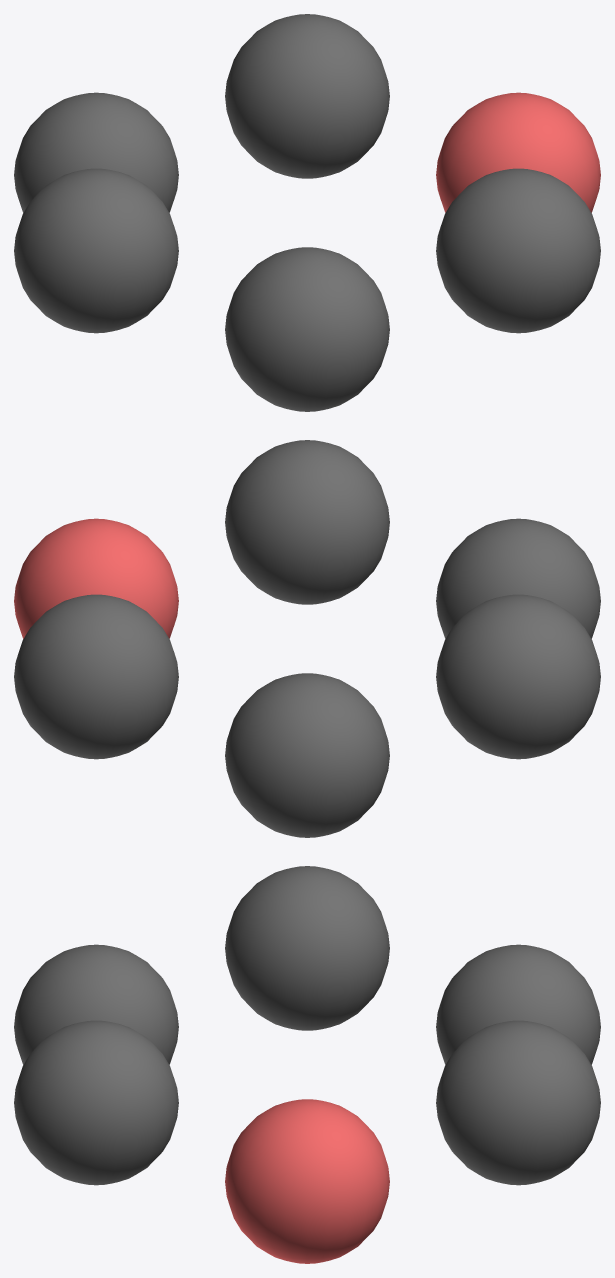
File: glucose.glb
3 renders of one model, top to bottom at view 1: azimuth 30°, elevation 25°; view 2: azimuth 150°, elevation 25°; view 3: azimuth 270°, elevation 25°, orthographic.
Parts seen in each view (by area): view 1: ring_node (×6); view 2: ring_node (×6); view 3: ring_node (×6).
Boxes of the visible parts, box(x1,y1,x2,y2) form: ring_node (×6): box(14, 14, 600, 411); ring_node (×6): box(14, 440, 600, 837); ring_node (×6): box(14, 866, 600, 1263).
Size of the model in its own units: 1.74 by 0.52 by 1.57.
